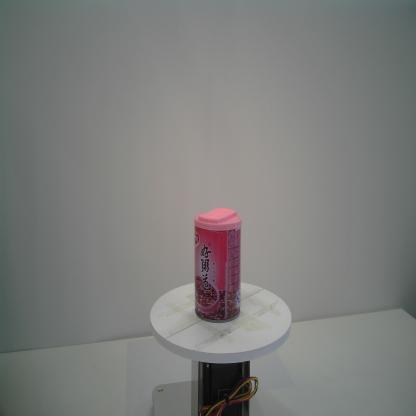Canned Food: (192, 206, 242, 324)
